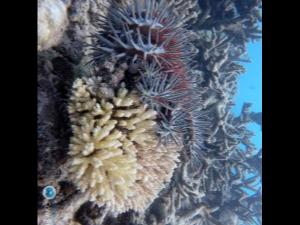bleached_corals: (24, 62, 197, 225)
